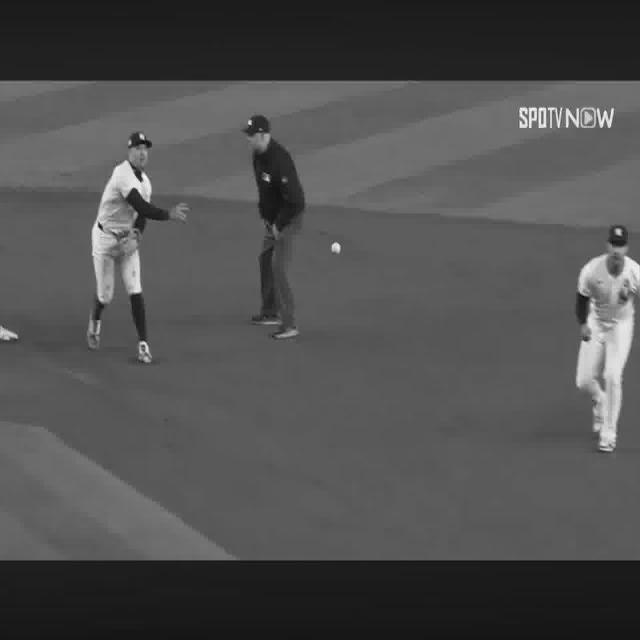base: (1, 325, 19, 342)
baseball: (333, 242, 340, 255)
baseball_glove: (119, 230, 139, 255)
shoe: (89, 315, 102, 350), (272, 325, 299, 340), (136, 340, 152, 363), (251, 315, 280, 326), (597, 437, 615, 453)
